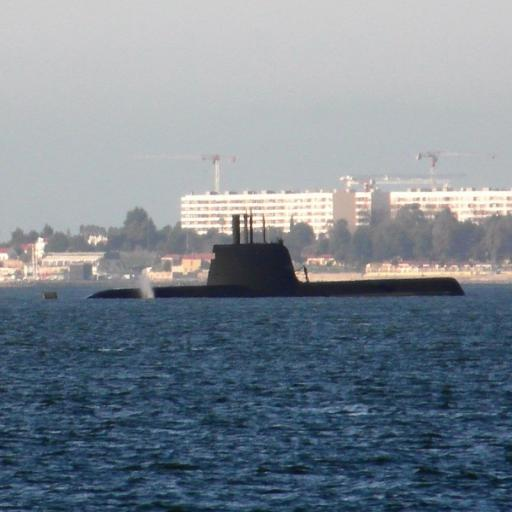submarine: (45, 203, 475, 306)
